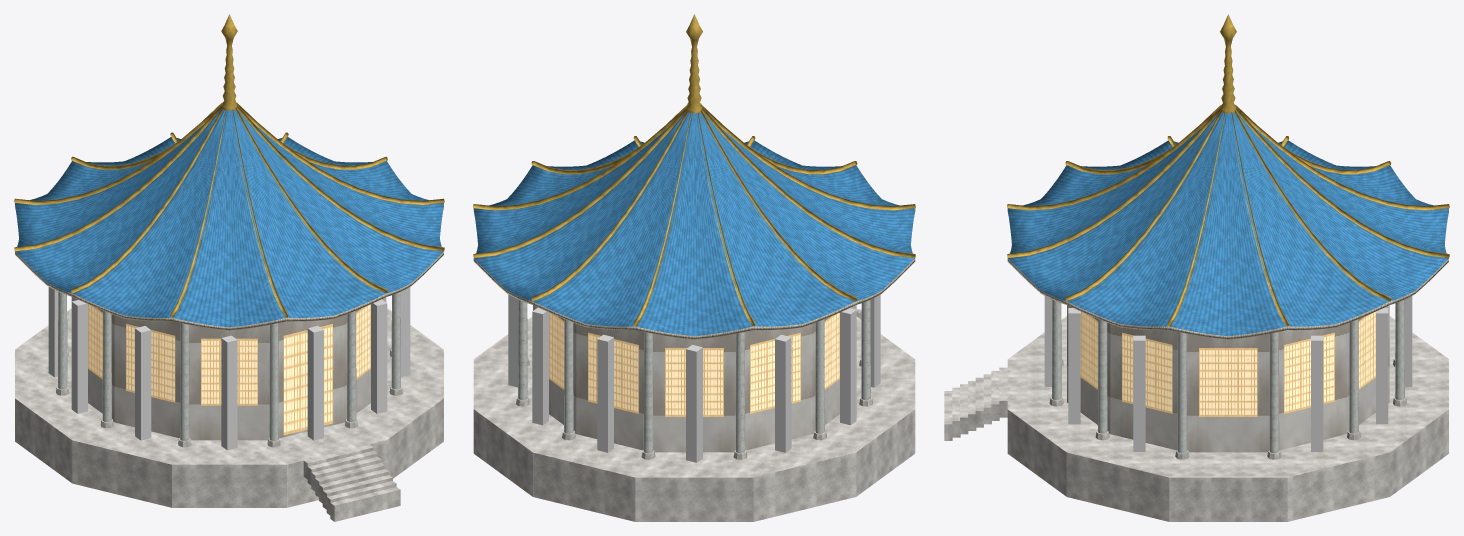
The model's file is wind_temple.glb.
The picture shows the model from 3 angles, left to right: view 1: azimuth 30°, elevation 25°; view 2: azimuth 150°, elevation 25°; view 3: azimuth 270°, elevation 25°; orthographic projection. The views are drawn at different scales.
Parts seen in each view (by area): view 1: WindTempleCap, WindTemplePlinth, WindTempleWalls, WindTempleWindows, WindTempleCapRidges, WindTemplePillars, WindTemplePlinthSteps, Col-convcolonly.008, Col-convcolonly.009, Col-convcolonly.007, Col-convcolonly.006, Col-convcolonly.010 (+4 smaller); view 2: WindTempleCap, WindTemplePlinth, WindTempleWalls, WindTempleWindows, WindTempleCapRidges, WindTemplePillars, Col-convcolonly.003, Col-convcolonly.004, Col-convcolonly.005, Col-convcolonly.006, Col-convcolonly.002, WindTempleSpire (+3 smaller); view 3: WindTempleCap, WindTemplePlinth, WindTempleWalls, WindTempleWindows, WindTempleCapRidges, WindTemplePillars, WindTemplePlinthSteps, Col-convcolonly.011, Col-convcolonly.001, Col-convcolonly.010, Col-convcolonly.002, WindTempleSpire (+3 smaller).
Boxes of the visible parts, x1,y1,x2,y2 form: WindTempleCap: (15,109,443,330); WindTemplePlinth: (15,308,443,507); WindTempleWalls: (72,297,386,440); WindTempleWindows: (88,304,370,435); WindTempleCapRidges: (14,100,444,317); WindTemplePillars: (58,292,400,440); WindTemplePlinthSteps: (303,444,400,521); Col-convcolonly.008: (221,335,237,450); Col-convcolonly.009: (307,326,323,440); Col-convcolonly.007: (135,326,151,440); Col-convcolonly.006: (71,300,87,413); Col-convcolonly.010: (371,299,387,413); WindTempleCap: (473,112,915,339); WindTemplePlinth: (473,317,915,521); WindTempleWalls: (533,305,855,452); WindTempleWindows: (549,312,839,416); WindTempleCapRidges: (473,102,915,326); WindTemplePillars: (518,300,870,453); Col-convcolonly.003: (597,334,613,452); Col-convcolonly.004: (686,344,702,462); Col-convcolonly.005: (775,334,791,452); Col-convcolonly.006: (840,308,856,425); Col-convcolonly.002: (532,307,548,425); WindTempleSpire: (686,14,702,113); WindTempleCap: (1007,112,1448,339); WindTemplePlinth: (1007,316,1448,521); WindTempleWalls: (1067,305,1389,452); WindTempleWindows: (1080,311,1375,416); WindTempleCapRidges: (1007,104,1449,326); WindTemplePillars: (1052,299,1404,453); WindTemplePlinthSteps: (944,367,1007,440); Col-convcolonly.011: (1133,335,1145,451); Col-convcolonly.001: (1311,335,1323,451); Col-convcolonly.010: (1068,308,1080,424); Col-convcolonly.002: (1376,308,1388,424); WindTempleSpire: (1220,14,1236,113).
Size of what is drawn, in the model's own units: 18.04 by 18.66 by 20.6.
10 materials, 10 textured.
